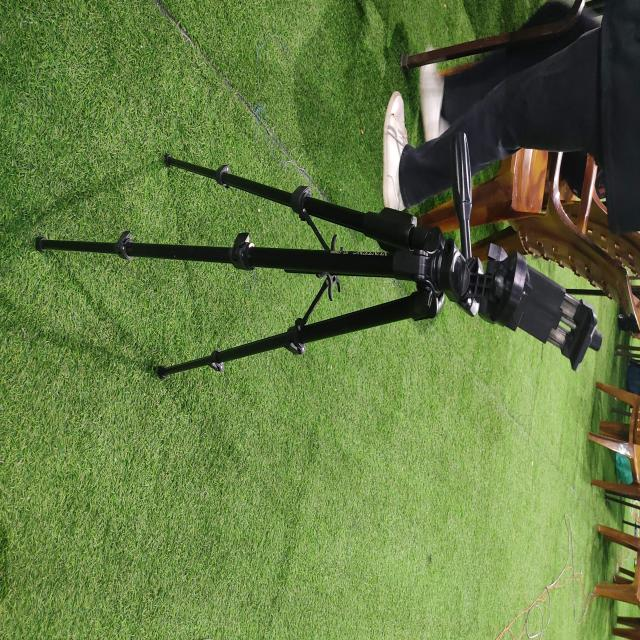Camer Stand: (34, 134, 603, 383)
